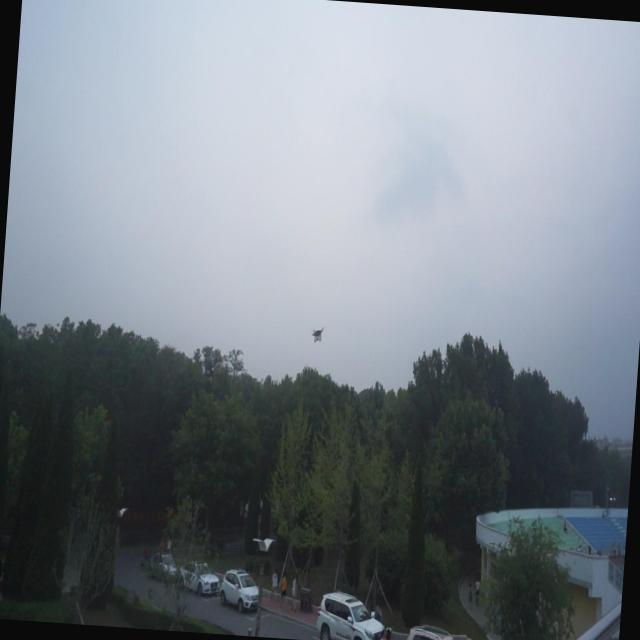drone: (308, 322, 325, 346)
